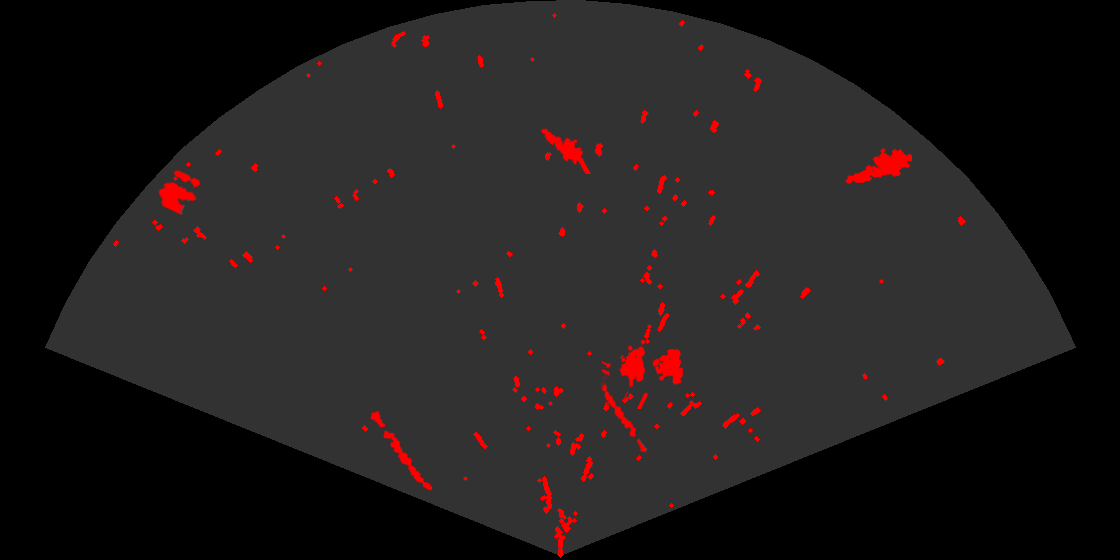ball: (157, 168, 203, 217)
cage: (602, 338, 685, 409)
chain: (369, 409, 434, 492), (599, 380, 655, 462)
frogman: (844, 146, 912, 185), (539, 127, 591, 174)
